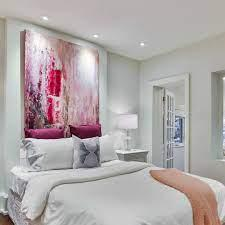bed: (3, 123, 225, 225)
door: (165, 92, 180, 171)
light: (115, 111, 139, 152), (39, 7, 50, 28), (87, 29, 102, 42), (138, 41, 147, 51)
table: (116, 147, 149, 162)
